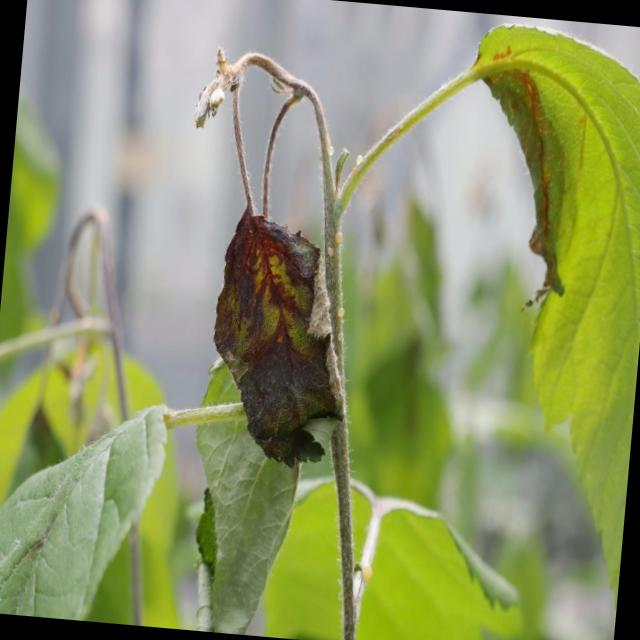-FireBlight-: (197, 42, 359, 464)
